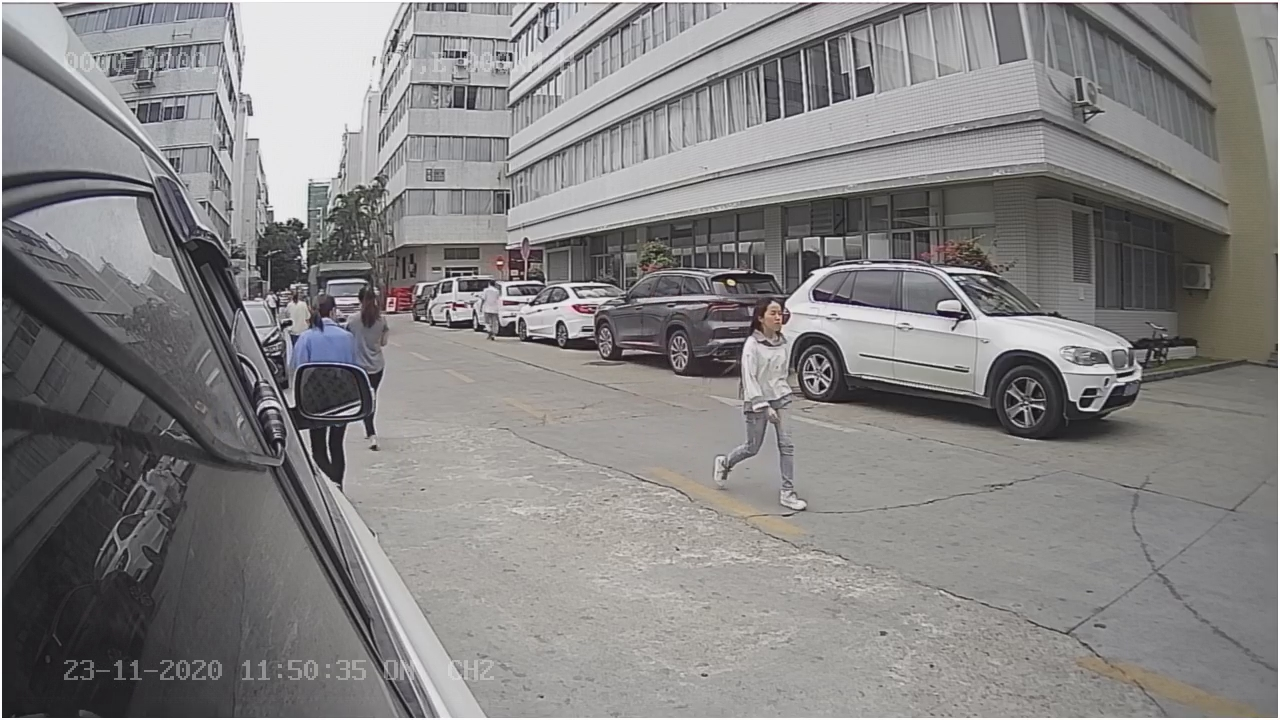person: (708, 295, 814, 517)
